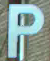Parking: (7, 0, 40, 60)
